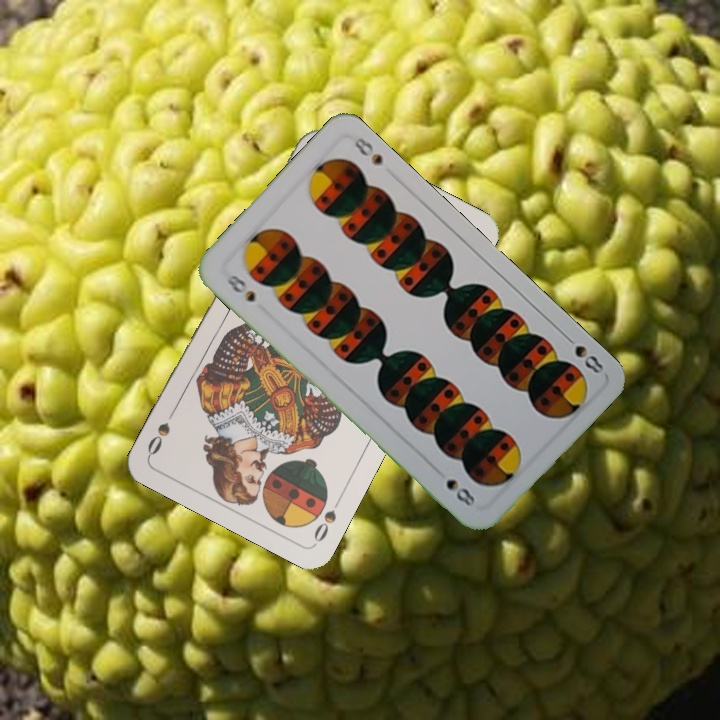S8: (559, 329, 606, 377), (221, 270, 258, 305)
SO: (309, 491, 345, 545)
